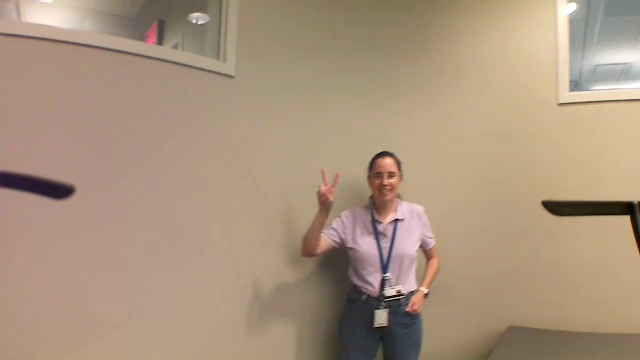peace: (313, 159, 347, 210)
